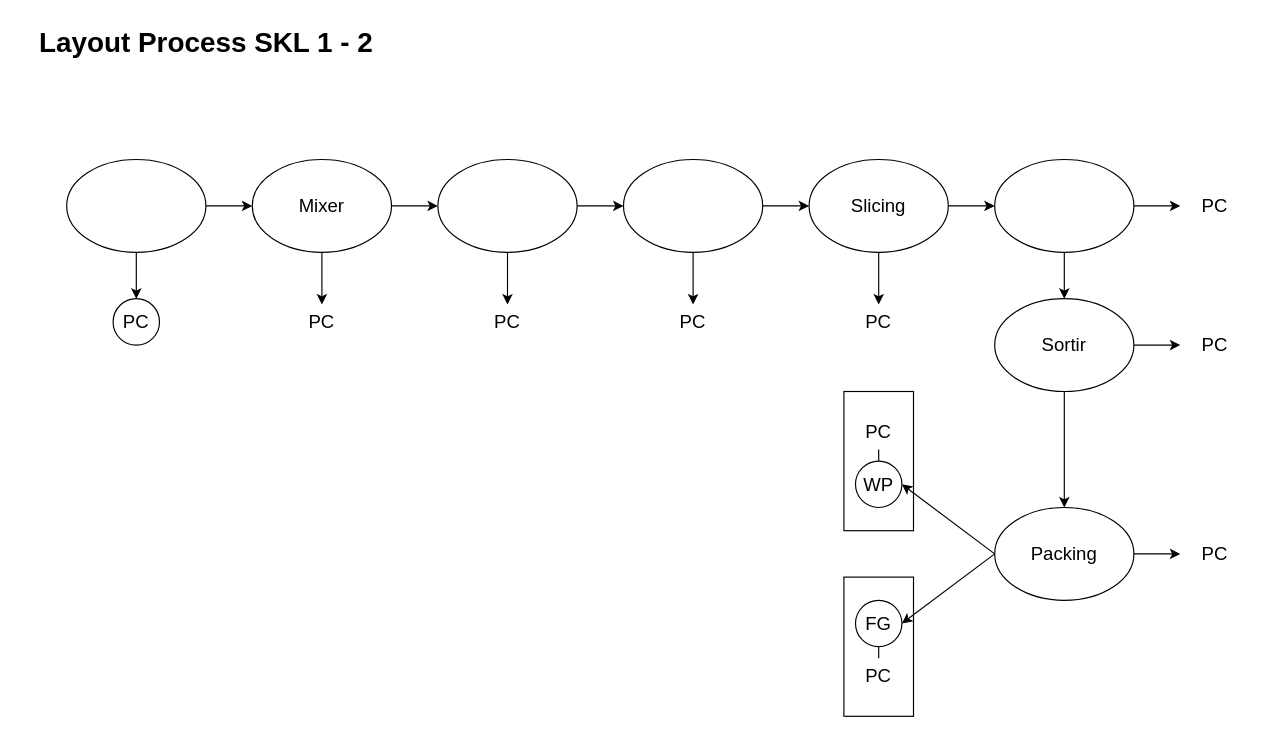
The diagram is 1269 pixels wide and 737 high, and some of its shapes have lost their labels. The shapes that lost their labels are listed below. From the top down, each one's box as (x1, y1, x2, y2) in pixels, then its label:
(66, 158, 206, 252): Persiapan
(437, 158, 577, 252): Steamer
(622, 158, 763, 252): VDP
(994, 158, 1134, 252): Dryer
